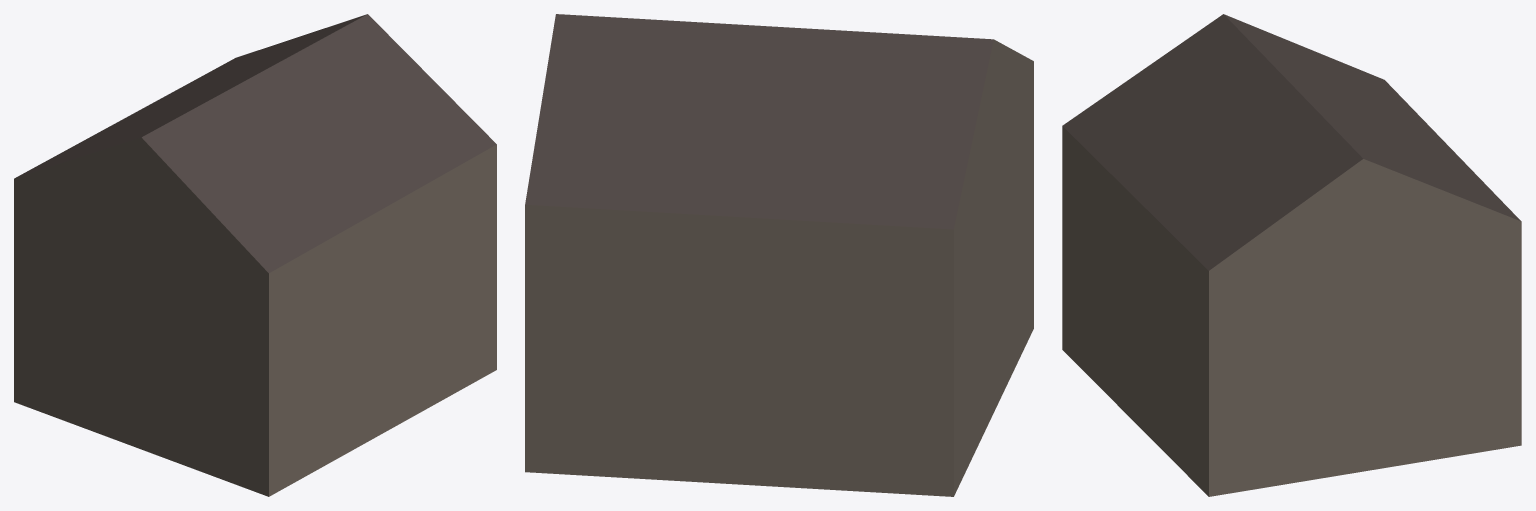
3 renders of one model, left to right at view 1: azimuth 30°, elevation 25°; view 2: azimuth 150°, elevation 25°; view 3: azimuth 270°, elevation 25°, orthographic. The views are drawn at different scales.
Parts seen in each view (by area): view 1: HP-w1198845826; view 2: HP-w1198845826; view 3: HP-w1198845826.
Boxes of the visible parts, bbox=[...] form: HP-w1198845826: bbox=[14, 14, 496, 496]; HP-w1198845826: bbox=[525, 14, 1033, 496]; HP-w1198845826: bbox=[1062, 14, 1521, 496].
Size of the model in its own units: 11.1 by 8.38 by 11.15.
